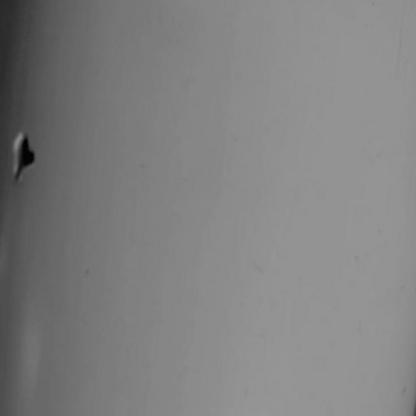kongdong: (1, 127, 50, 186)
